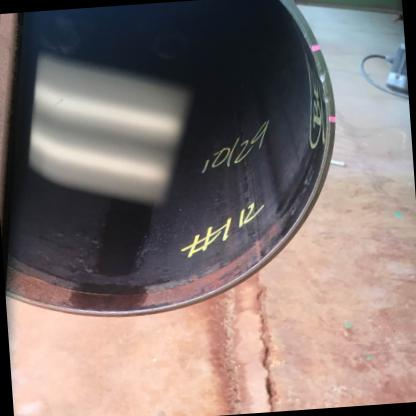Bevel: (311, 62, 331, 83), (320, 87, 335, 106)
